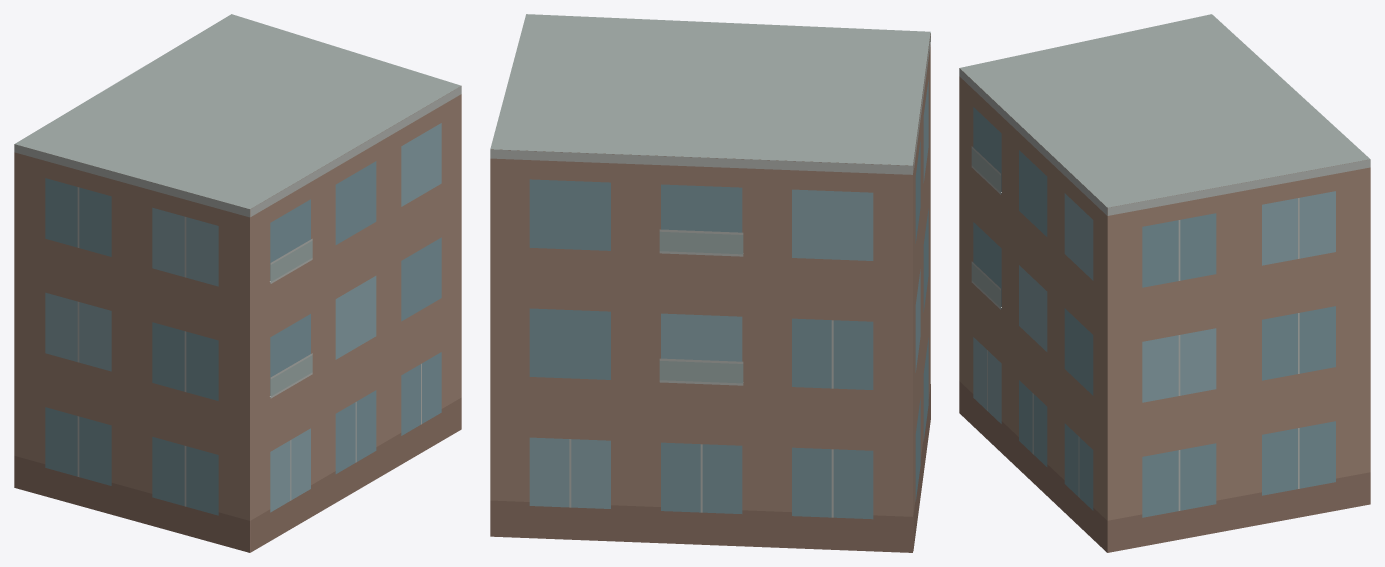
The model's file is survey-upis-32699797.glb.
The picture shows the model from 3 angles, left to right: view 1: azimuth 30°, elevation 25°; view 2: azimuth 150°, elevation 25°; view 3: azimuth 270°, elevation 25°; orthographic projection. The views are drawn at different scales.
Parts seen in each view (by area): view 1: survey-upis-32699797.tmp; view 2: survey-upis-32699797.tmp; view 3: survey-upis-32699797.tmp.
Boxes of the visible parts, x1,y1,x2,y2 form: survey-upis-32699797.tmp: (14,14,461,552); survey-upis-32699797.tmp: (490,14,930,552); survey-upis-32699797.tmp: (959,14,1370,552).
Size of the model in its own units: 12.29 by 10.2 by 11.02.
